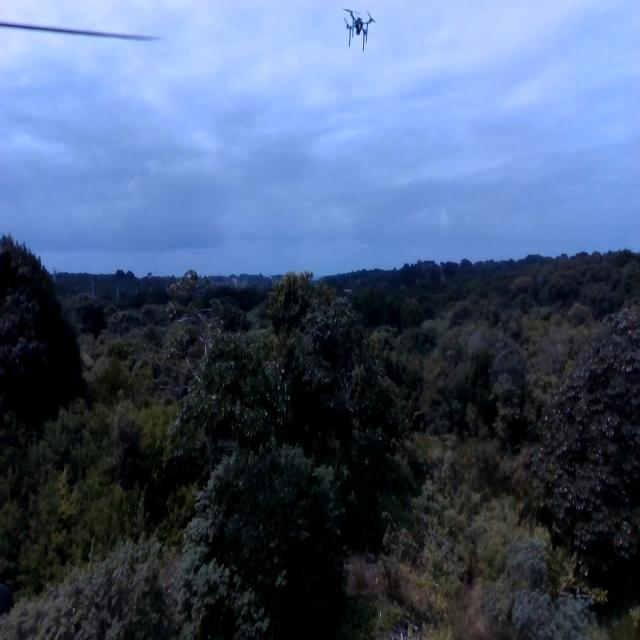-uav-: (336, 0, 380, 60)
